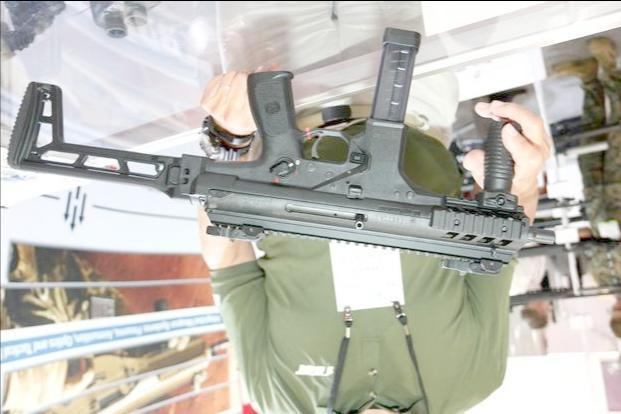gun: (6, 31, 560, 275)
